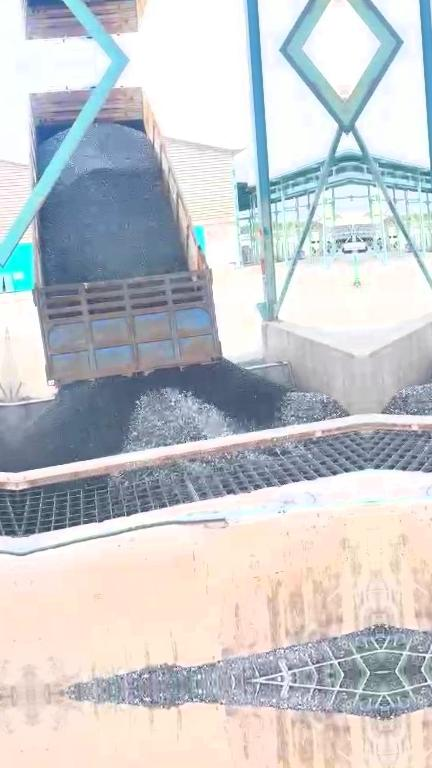gravel: (14, 359, 349, 472), (39, 122, 187, 283), (65, 625, 381, 692), (110, 441, 300, 487), (38, 128, 69, 178)
